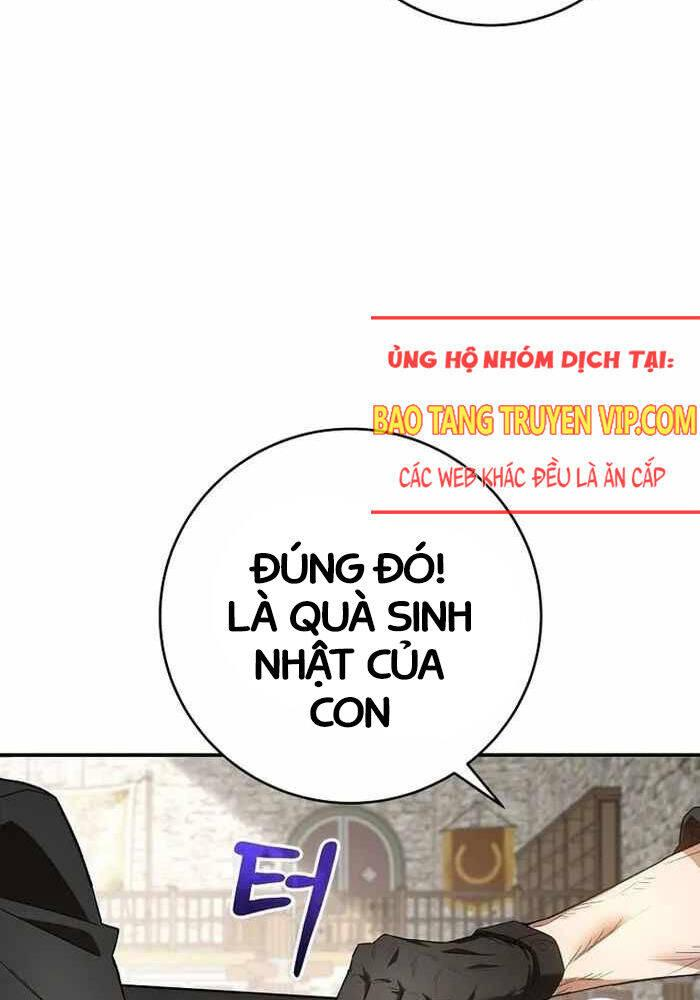quangcao: (375, 315, 700, 511)
